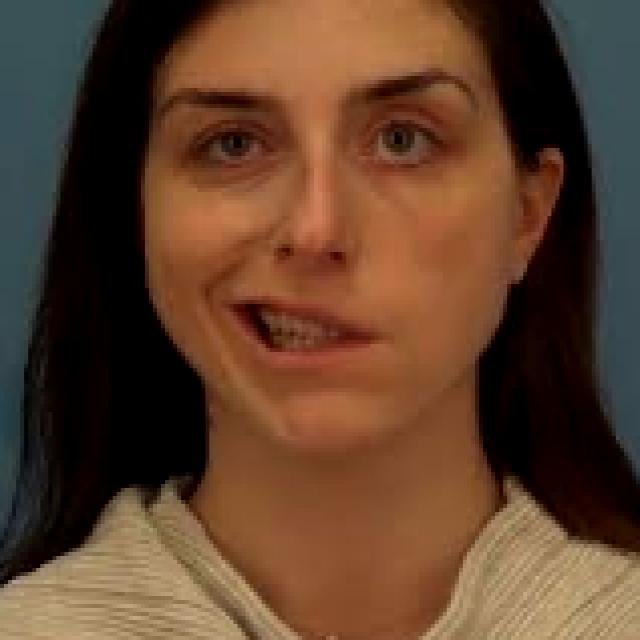stroke_face: (143, 9, 521, 450)
